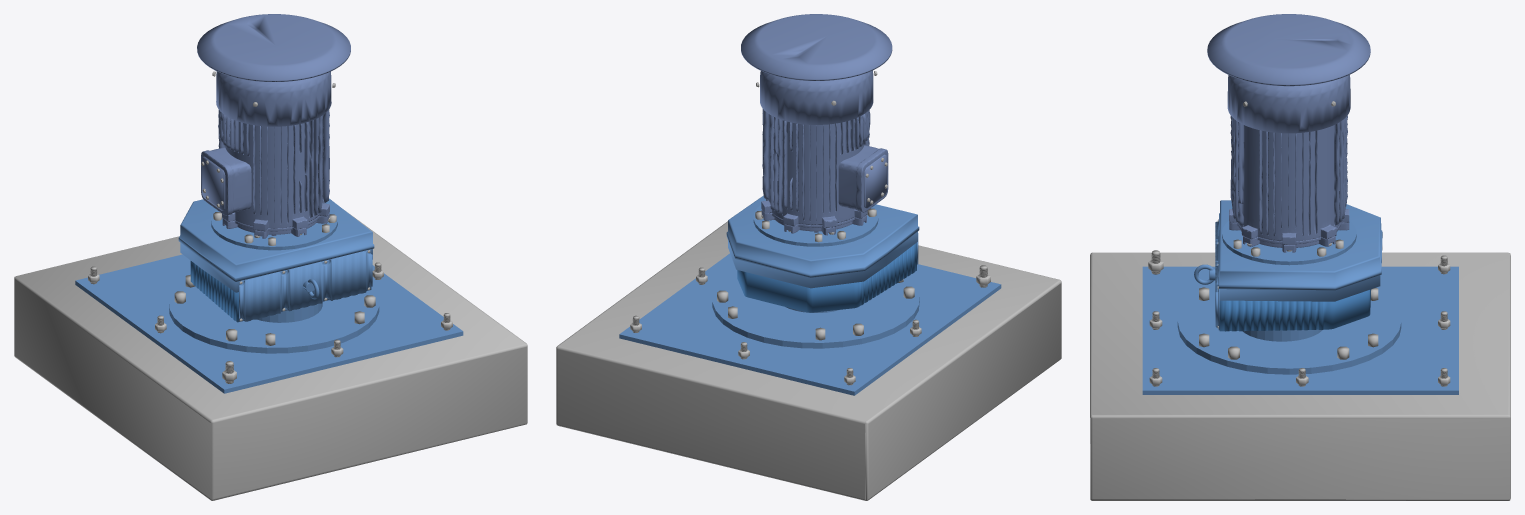
The model's file is vertical-pump.glb.
3 views of the same model, side by side, from view 1: azimuth 30°, elevation 25°; view 2: azimuth 150°, elevation 25°; view 3: azimuth 270°, elevation 25° (orthographic). The views are drawn at different scales.
Parts seen in each view (by area): view 1: Obj3d66-1060089-4018-904, Obj3d66-1060089-4017-529, Obj3d66-1060089-3981-530, Obj3d66-1060089-4011-542, Obj3d66-1060089-3987-139, Obj3d66-1060089-3944-236, Obj3d66-1060089-3998-128, Obj3d66-1060089-3983-228, Obj3d66-1060089-3986-121, Obj3d66-1060089-3963-538, Obj3d66-1060089-3984-552, Obj3d66-1060089-3988-99 (+3 smaller); view 2: Obj3d66-1060089-4018-904, Obj3d66-1060089-4017-529, Obj3d66-1060089-3987-139, Obj3d66-1060089-3981-530, Obj3d66-1060089-4011-542, Obj3d66-1060089-3944-236, Obj3d66-1060089-3983-228, Obj3d66-1060089-3986-121, Obj3d66-1060089-3988-99, Obj3d66-1060089-3963-538, Obj3d66-1060089-3984-552, Obj3d66-1060089-3964-120 (+1 smaller); view 3: Obj3d66-1060089-4018-904, Obj3d66-1060089-4017-529, Obj3d66-1060089-3981-530, Obj3d66-1060089-4011-542, Obj3d66-1060089-3944-236, Obj3d66-1060089-3987-139, Obj3d66-1060089-3983-228, Obj3d66-1060089-3986-121, Obj3d66-1060089-3988-99, Obj3d66-1060089-3984-552, Obj3d66-1060089-3985-550, Obj3d66-1060089-4000-345 (+1 smaller).
Boxes of the visible parts, x1=… form: Obj3d66-1060089-4018-904: x1=14, y1=212, x2=527, y2=500; Obj3d66-1060089-4017-529: x1=75, y1=254, x2=463, y2=393; Obj3d66-1060089-3981-530: x1=197, y1=14, x2=350, y2=81; Obj3d66-1060089-4011-542: x1=169, y1=280, x2=379, y2=353; Obj3d66-1060089-3987-139: x1=178, y1=198, x2=374, y2=292; Obj3d66-1060089-3944-236: x1=222, y1=117, x2=329, y2=231; Obj3d66-1060089-3998-128: x1=239, y1=249, x2=372, y2=321; Obj3d66-1060089-3983-228: x1=216, y1=71, x2=331, y2=126; Obj3d66-1060089-3986-121: x1=218, y1=109, x2=329, y2=223; Obj3d66-1060089-3963-538: x1=201, y1=147, x2=251, y2=215; Obj3d66-1060089-3984-552: x1=211, y1=207, x2=337, y2=250; Obj3d66-1060089-3988-99: x1=190, y1=261, x2=371, y2=322; Obj3d66-1060089-4018-904: x1=556, y1=221, x2=1061, y2=500; Obj3d66-1060089-4017-529: x1=619, y1=253, x2=1001, y2=395; Obj3d66-1060089-3987-139: x1=726, y1=195, x2=919, y2=288; Obj3d66-1060089-3981-530: x1=741, y1=14, x2=892, y2=80; Obj3d66-1060089-4011-542: x1=712, y1=271, x2=919, y2=348; Obj3d66-1060089-3944-236: x1=761, y1=114, x2=867, y2=228; Obj3d66-1060089-3983-228: x1=760, y1=70, x2=873, y2=124; Obj3d66-1060089-3986-121: x1=762, y1=109, x2=870, y2=220; Obj3d66-1060089-3988-99: x1=737, y1=242, x2=916, y2=312; Obj3d66-1060089-3963-538: x1=838, y1=145, x2=888, y2=212; Obj3d66-1060089-3984-552: x1=753, y1=204, x2=878, y2=246; Obj3d66-1060089-3964-120: x1=864, y1=154, x2=887, y2=208; Obj3d66-1060089-4018-904: x1=1090, y1=252, x2=1510, y2=500; Obj3d66-1060089-4017-529: x1=1142, y1=266, x2=1458, y2=394; Obj3d66-1060089-3981-530: x1=1207, y1=14, x2=1370, y2=86; Obj3d66-1060089-4011-542: x1=1177, y1=286, x2=1401, y2=374; Obj3d66-1060089-3944-236: x1=1229, y1=125, x2=1349, y2=244; Obj3d66-1060089-3987-139: x1=1218, y1=200, x2=1382, y2=301; Obj3d66-1060089-3983-228: x1=1227, y1=75, x2=1350, y2=133; Obj3d66-1060089-3986-121: x1=1230, y1=115, x2=1347, y2=236; Obj3d66-1060089-3988-99: x1=1219, y1=289, x2=1371, y2=331; Obj3d66-1060089-3984-552: x1=1222, y1=220, x2=1356, y2=265; Obj3d66-1060089-3985-550: x1=1229, y1=222, x2=1349, y2=252; Obj3d66-1060089-4000-345: x1=1243, y1=329, x2=1322, y2=341.
Bounding box in the file's own units: 4581 × 4909 × 4963.
